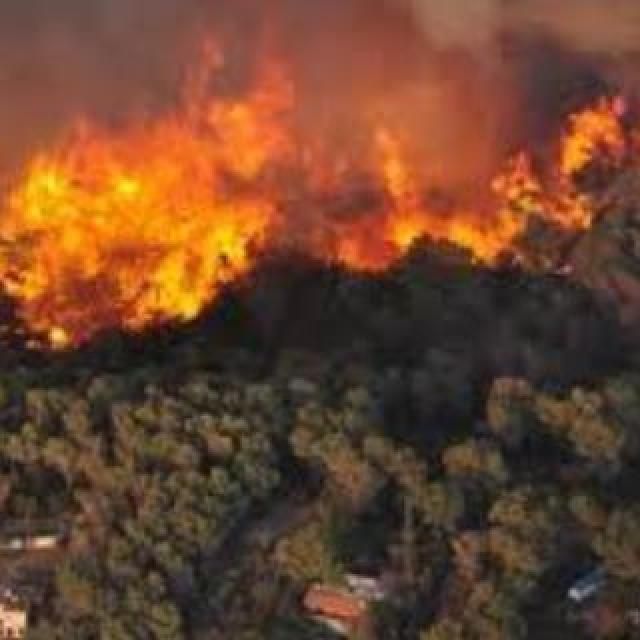Fire: (12, 100, 282, 332), (344, 157, 572, 276), (560, 95, 627, 187)
Smoke: (323, 4, 574, 138), (0, 7, 171, 121)
